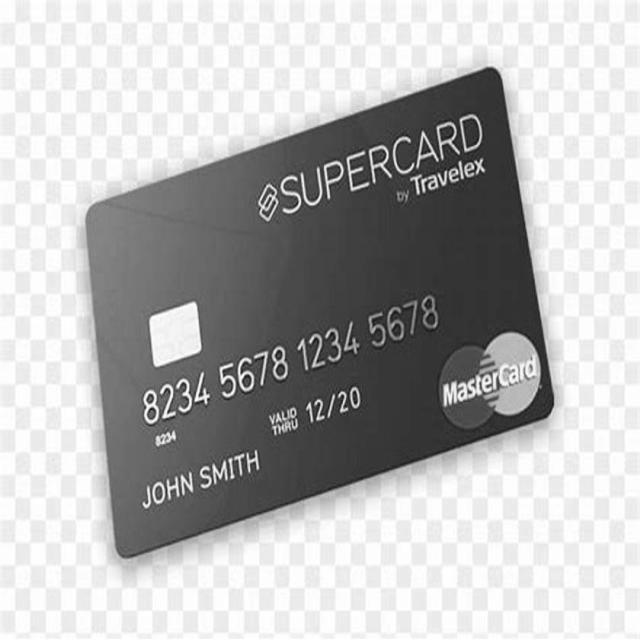card: (84, 64, 564, 576)
